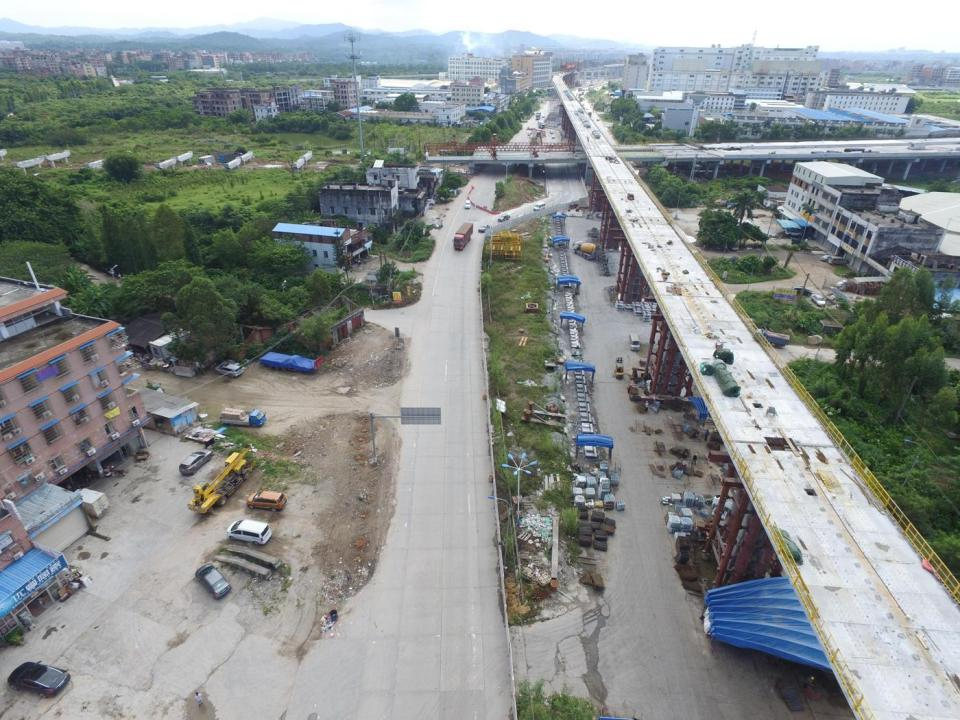car: (6, 662, 67, 696), (195, 564, 232, 600), (245, 489, 286, 511), (180, 450, 211, 475), (215, 365, 242, 376), (791, 285, 811, 296), (784, 228, 802, 238), (811, 294, 824, 307), (821, 254, 835, 262), (790, 238, 804, 245), (478, 224, 490, 232), (498, 214, 510, 221), (448, 187, 461, 193), (424, 200, 435, 206), (464, 200, 470, 208), (551, 134, 555, 138), (550, 130, 553, 133), (597, 118, 599, 121)
truck: (70, 485, 110, 517), (258, 352, 317, 371), (219, 408, 265, 427), (755, 328, 790, 347), (452, 222, 473, 250), (538, 121, 545, 129), (536, 112, 540, 120)
van: (228, 520, 270, 545), (629, 334, 640, 351), (828, 257, 846, 266), (534, 202, 545, 211)
